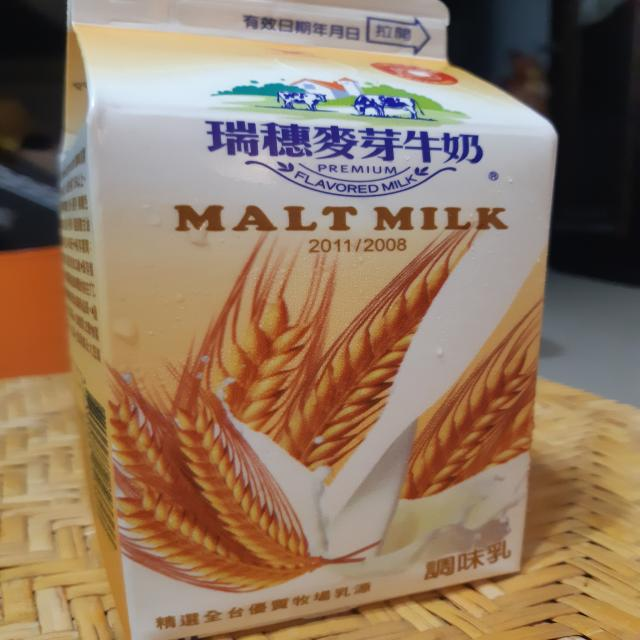RuiSui_MaltedMilk: (48, 0, 570, 638)
